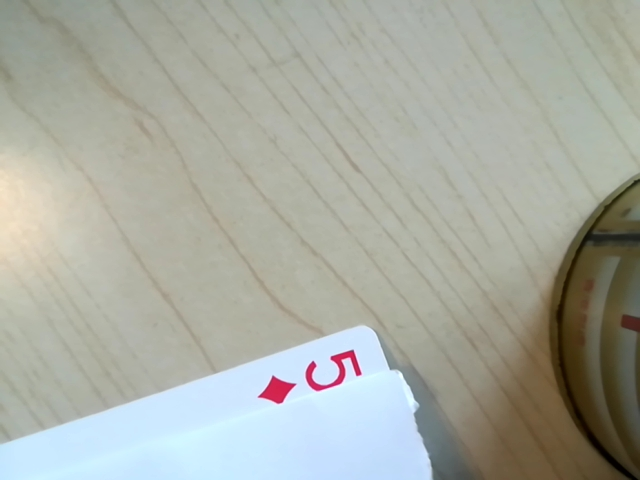fk 5: (255, 343, 380, 402)
